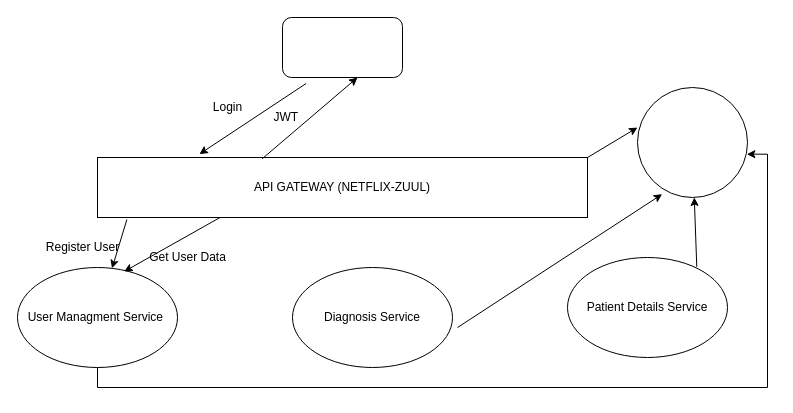
Some shapes in this 793 by 413 pixel diagram are drawn without their labels. Each missing label, with the box of its shape:
Eureka Discovery Server: (636, 86, 748, 198)
UI: (282, 16, 402, 78)
